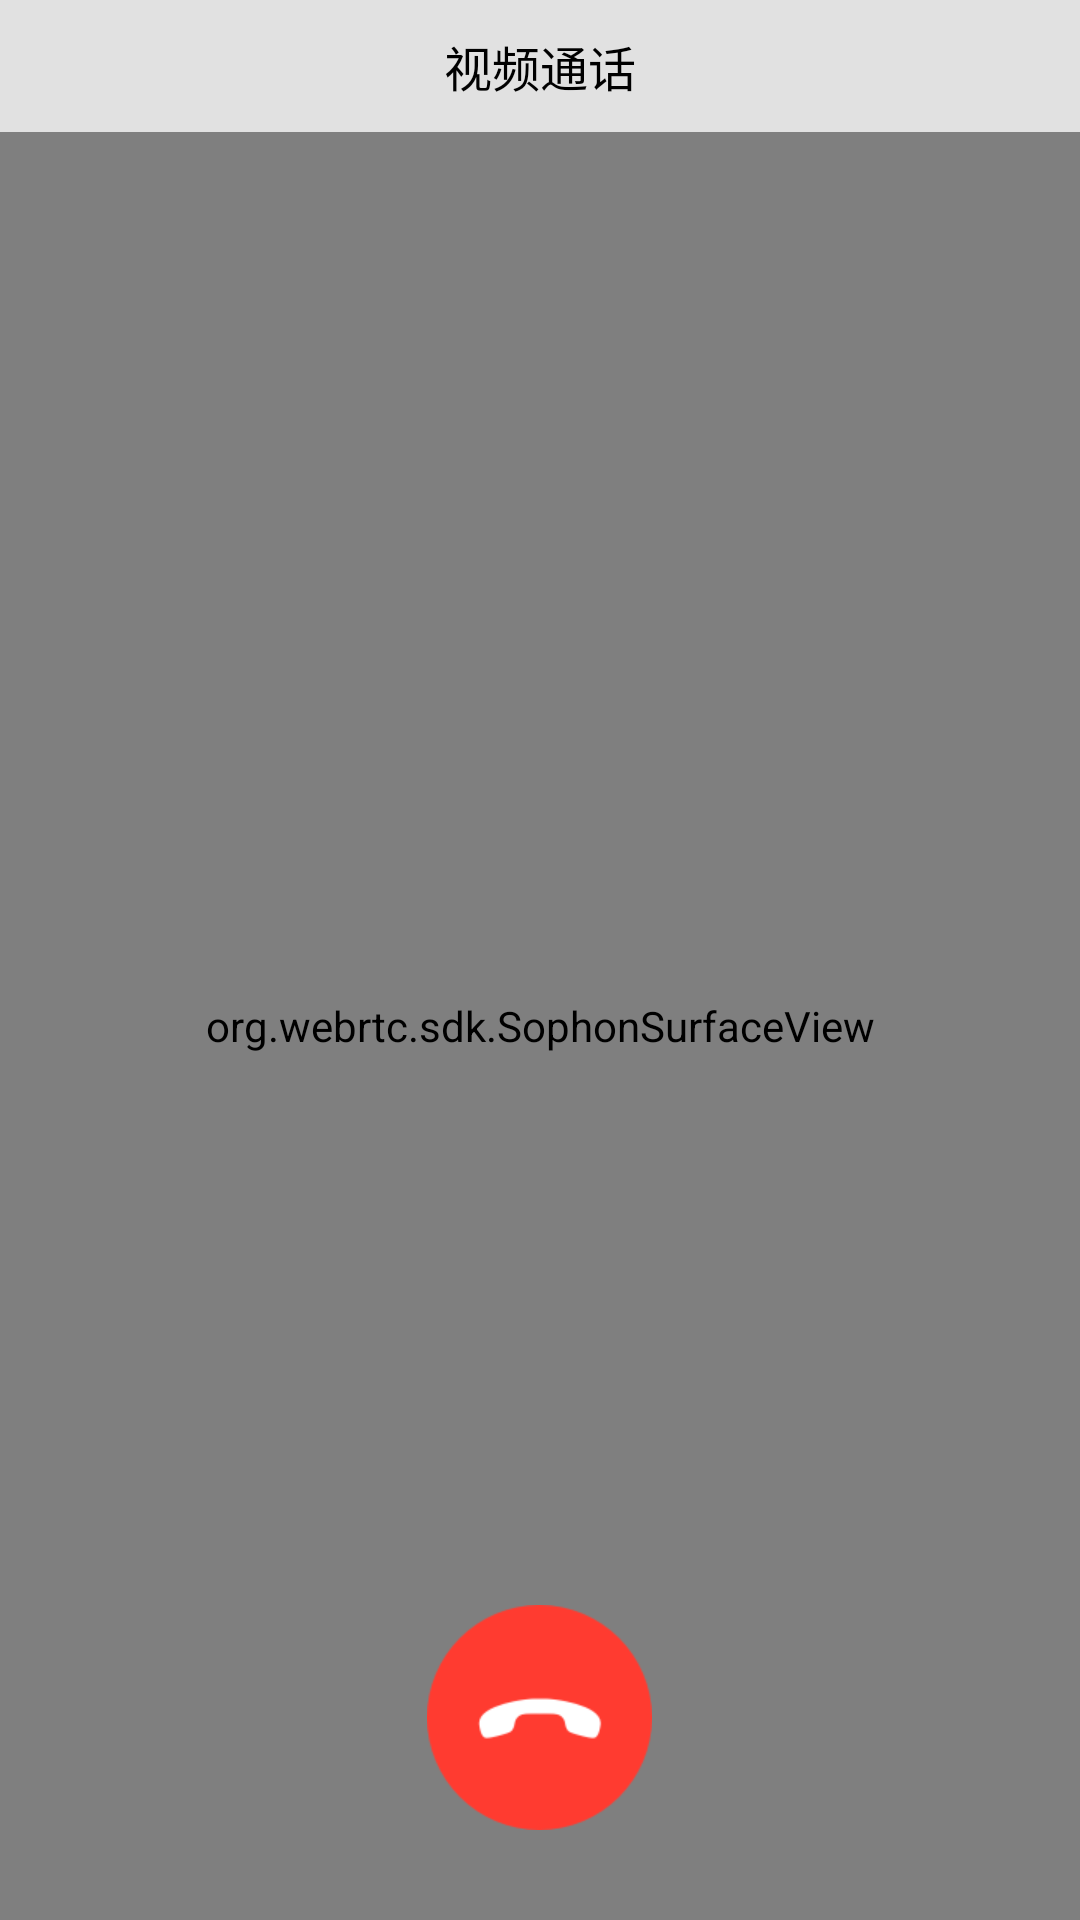

Screen size 1080×1920. Icon name, then its box in pixels as bbox=(x1, y1, x2, y2):
call: bbox=(427, 1605, 652, 1830)
